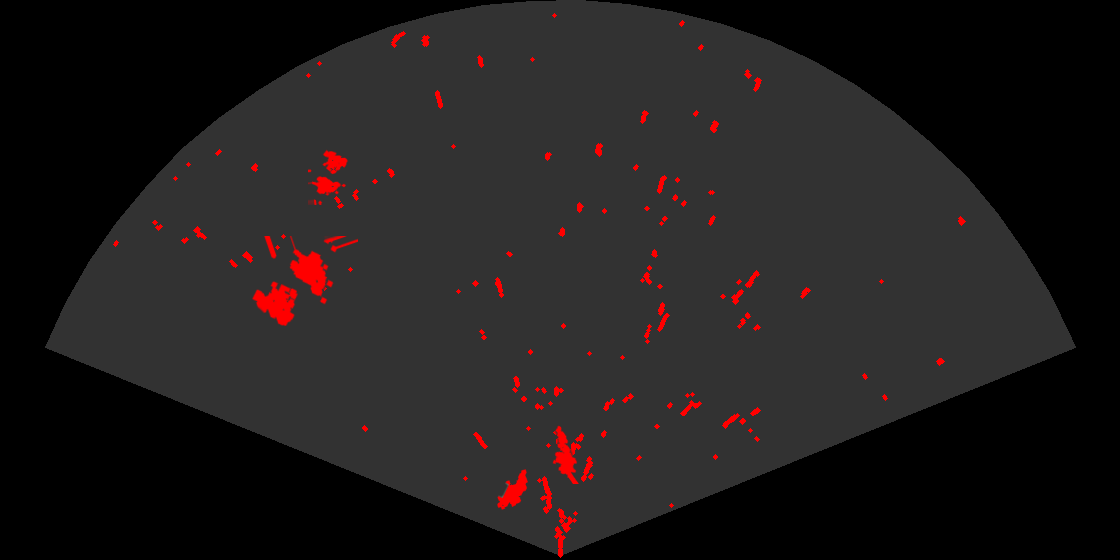AUV: (496, 468, 529, 511)
cage: (251, 236, 358, 328), (308, 148, 350, 205)
frogman: (551, 424, 580, 484)
